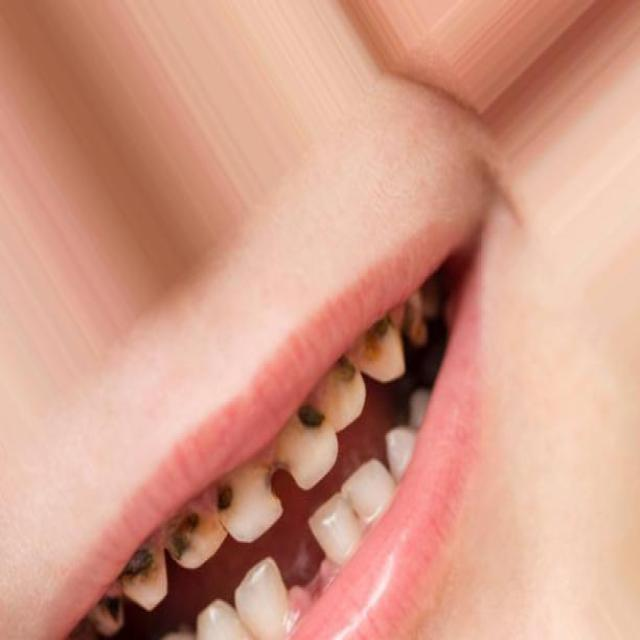caries: (164, 492, 216, 571), (208, 466, 258, 538), (116, 541, 168, 610), (286, 387, 332, 464), (362, 306, 412, 372), (323, 344, 368, 414), (258, 456, 300, 515), (91, 592, 131, 640)
